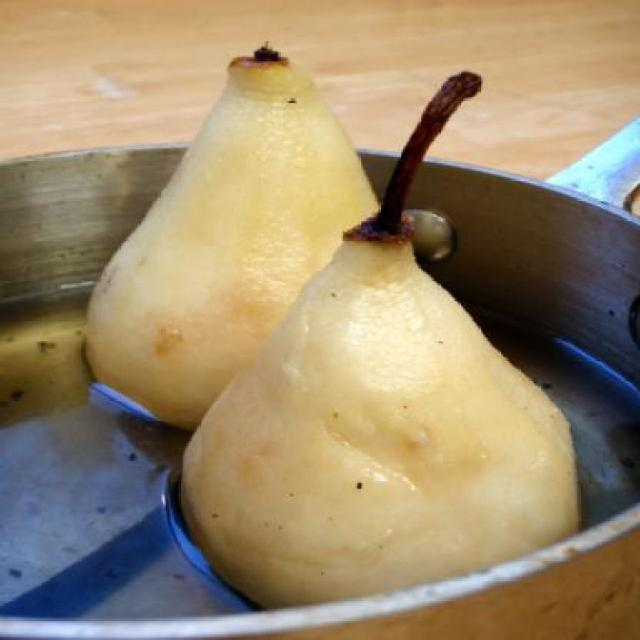Pear: (179, 217, 575, 609), (82, 53, 382, 424)
